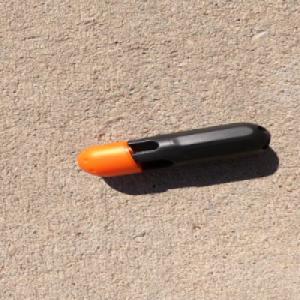PlasticPart: (76, 121, 272, 178)
